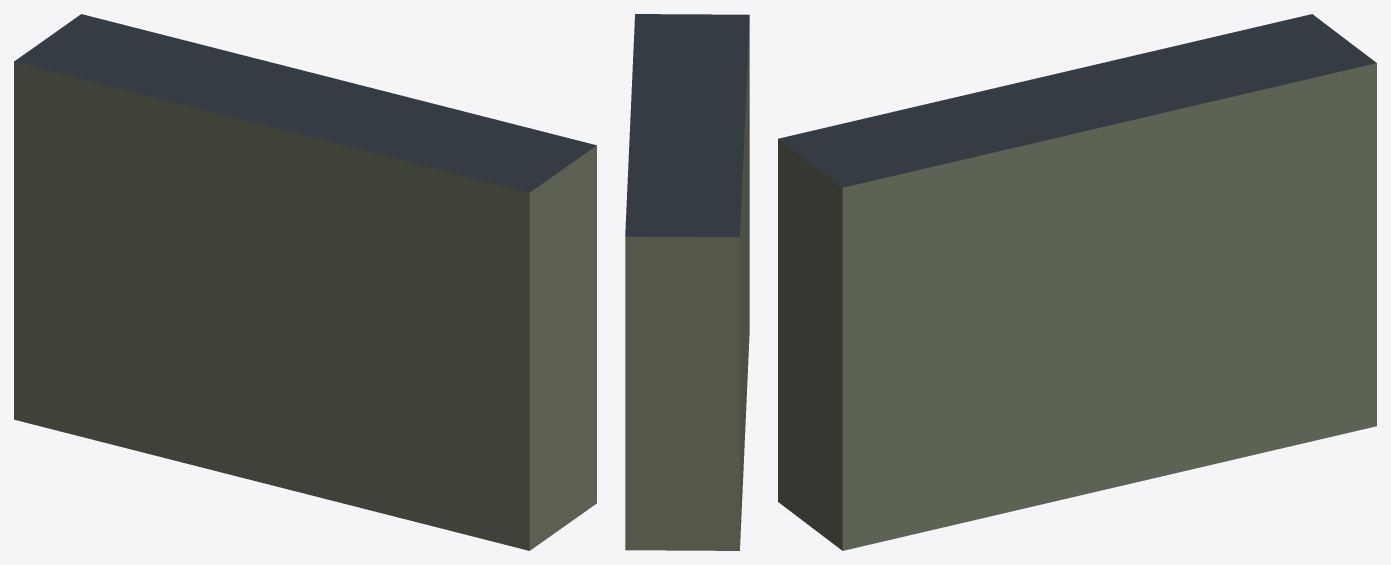
File: nyc-1015991-0.glb
3 renders of one model, left to right at view 1: azimuth 30°, elevation 25°; view 2: azimuth 150°, elevation 25°; view 3: azimuth 270°, elevation 25°, orthographic. The views are drawn at different scales.
Parts seen in each view (by area): view 1: nyc-1015991-0; view 2: nyc-1015991-0; view 3: nyc-1015991-0.
Boxes of the visible parts, <box> form: nyc-1015991-0: <box>14,14,596,550</box>; nyc-1015991-0: <box>625,14,749,550</box>; nyc-1015991-0: <box>778,14,1376,550</box>.
Size of the model in its own units: 17.43 by 16.98 by 25.38.
